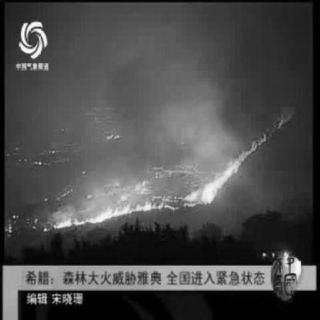Fire: (17, 117, 301, 225)
